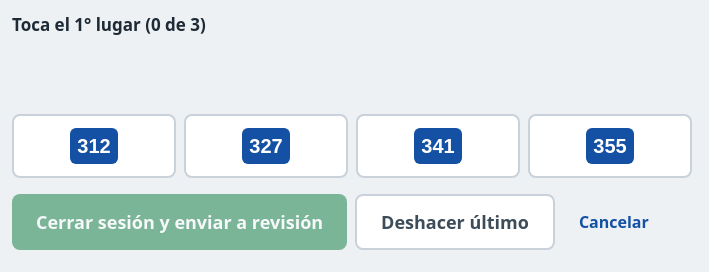
it: TopNPicker — ingreso del Top N tocando números (SPEC 7.4) › "Deshacer último" quita el último elegido
This screenshot has width=709, height=272.
Click the button named "Kart 312,".
click(94, 146)  # box [12,114,176,178]
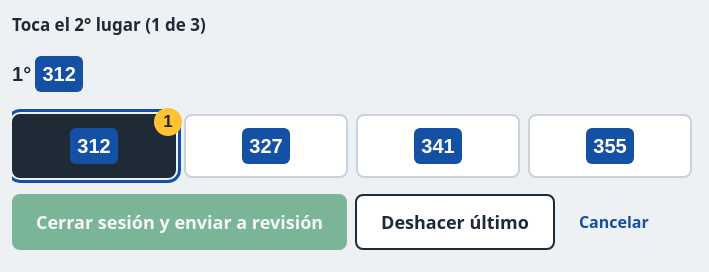
Click the button named "Kart 327,".
click(266, 146)  # box [184,114,348,178]
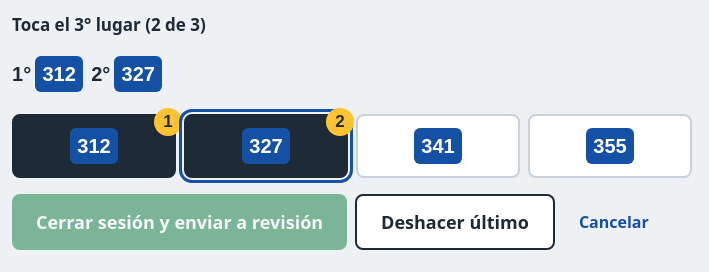
Click the button "Deshacer último".
click(455, 222)  # box [355,194,555,250]
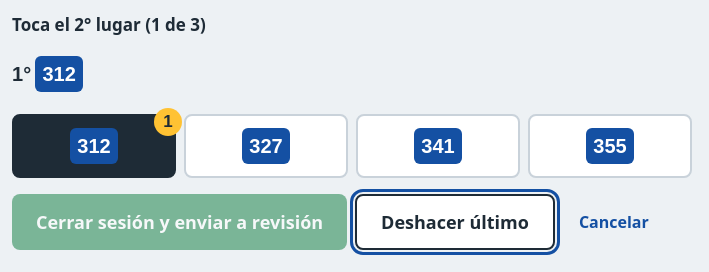
Now the button named "Kart 327," is not pressed, box [184,114,348,178]
Now the button named "Kart 312," is pressed, box [12,114,176,178]
